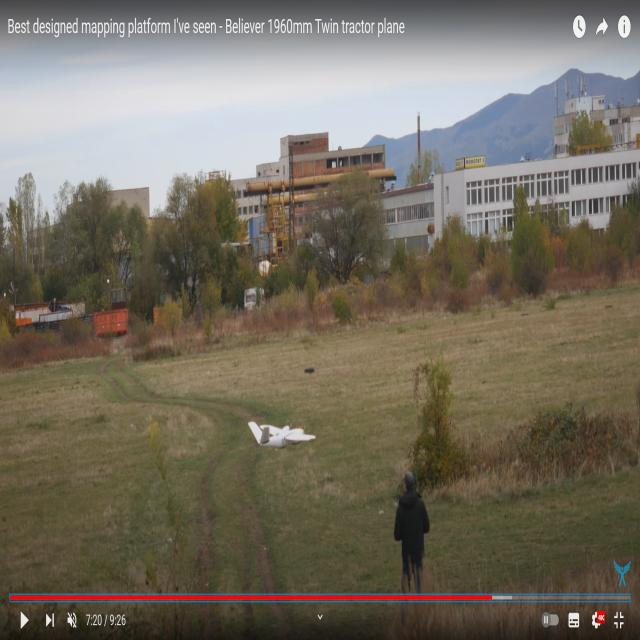iha: (278, 415, 284, 452)
